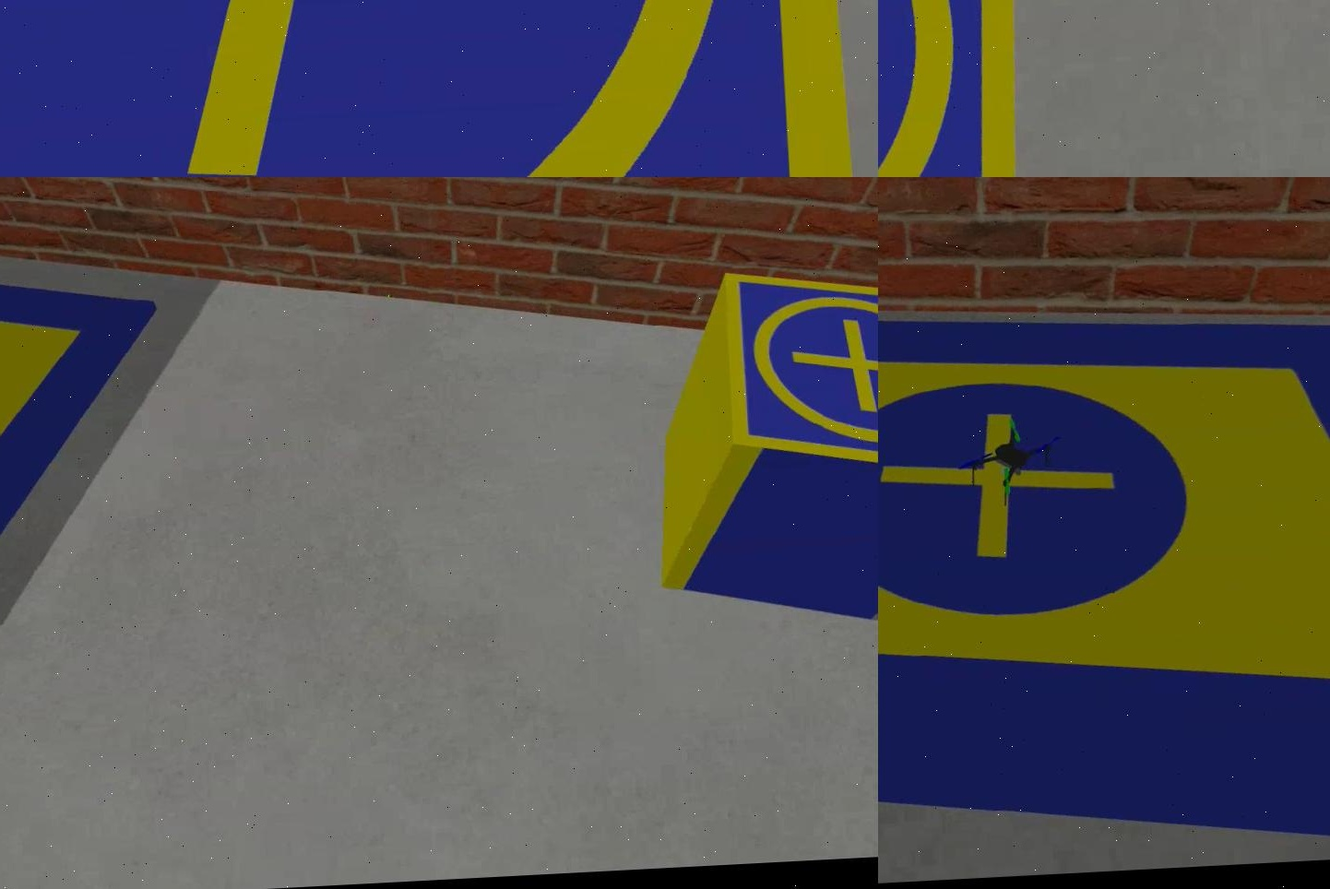large_base: (877, 279, 1328, 889), (0, 255, 177, 742)
small_base: (0, 1, 872, 178), (719, 264, 877, 491), (877, 1, 1041, 178)
